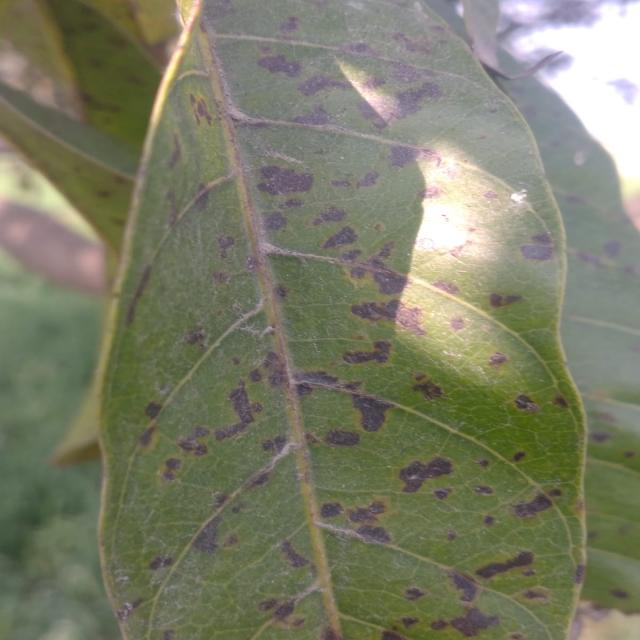black die: (258, 159, 481, 498), (258, 43, 455, 154)
